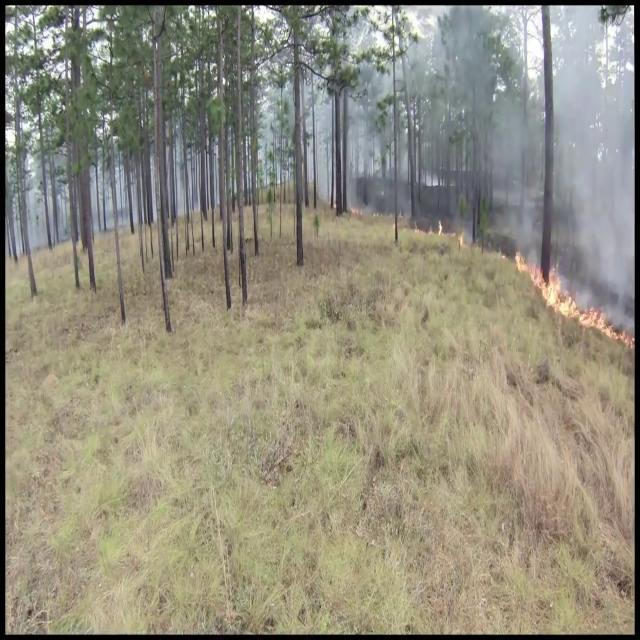Fire: (531, 254, 614, 327)
Smoke: (486, 5, 636, 292)
